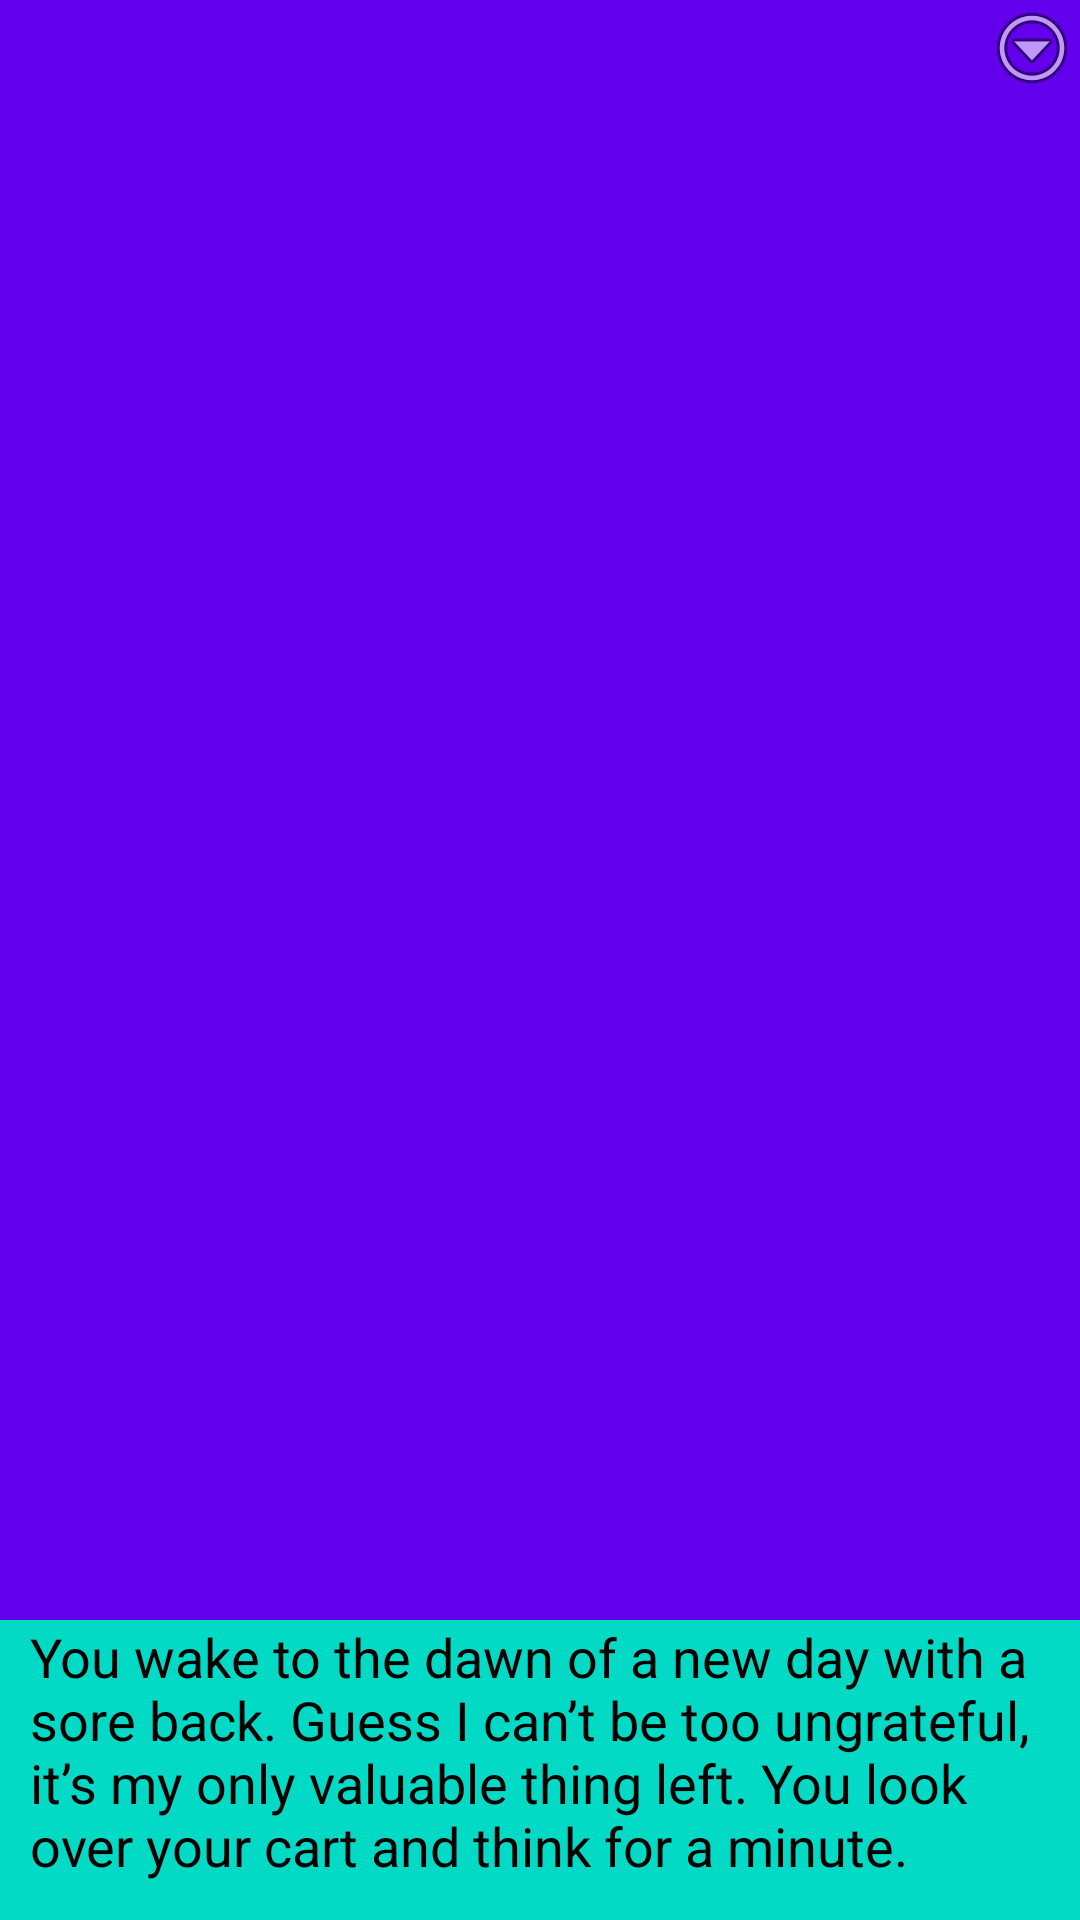

Screen size 1080w x 1920h. Icon name, then its box in pixels as bbox(x1, y1, x2, y2):
more: bbox(996, 12, 1068, 84)
